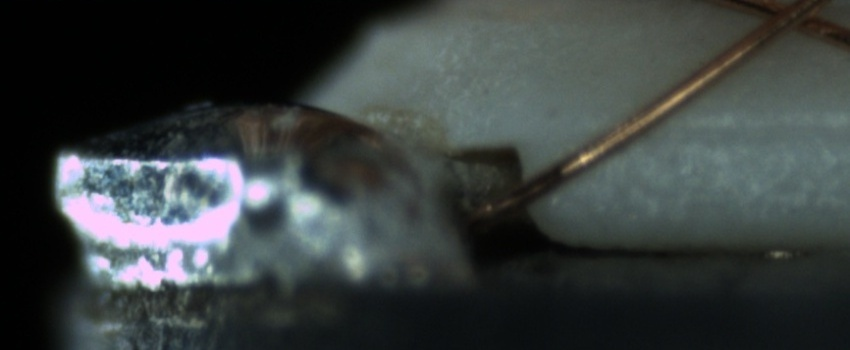CL: (748, 0, 834, 43)
DL: (623, 92, 845, 164)
